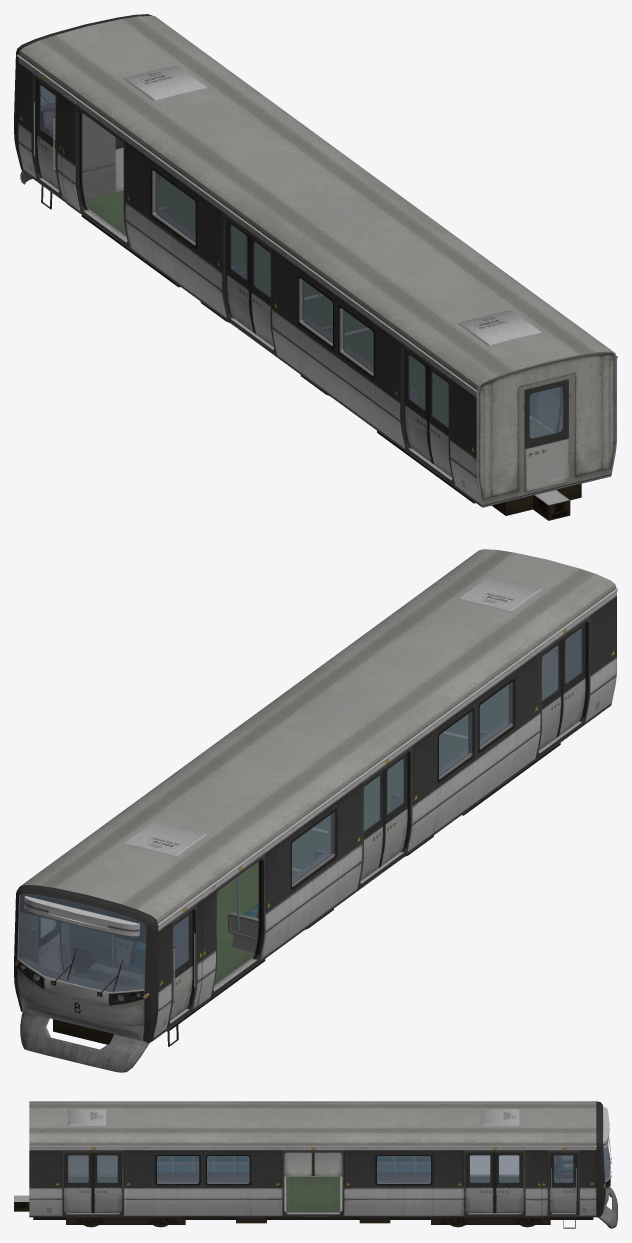
File: F_Train_Metro.fbx
3 views of the same model, one above another, from view 1: azimuth 30°, elevation 25°; view 2: azimuth 150°, elevation 25°; view 3: azimuth 270°, elevation 25° (orthographic). The views are drawn at different scales.
Visible parts, largest first — view 1: SubwayTrain_01_inside.001; view 2: SubwayTrain_01_inside.001; view 3: SubwayTrain_01_inside.001.
Part boxes in pixels (box(x1,y1,x2,y2)): SubwayTrain_01_inside.001: box(14, 14, 617, 520); SubwayTrain_01_inside.001: box(14, 549, 617, 1072); SubwayTrain_01_inside.001: box(14, 1101, 617, 1228).
Bounding box in the file's own units: 3.81 × 4.16 × 22.66.
